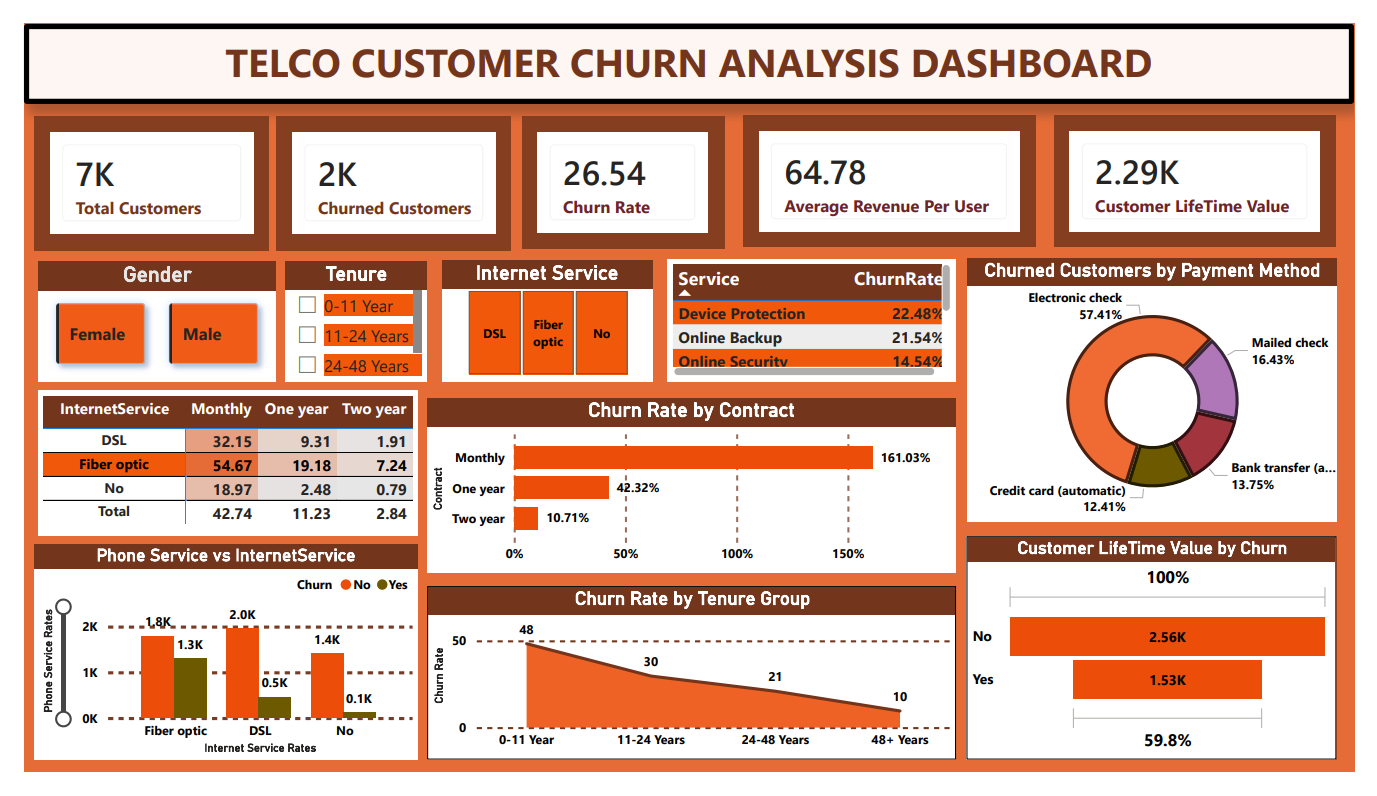

This screenshot's page, from the dashboard's own definition file:
{"tool":"powerbi","page":{"name":"Page 1","canvas":[1280,720],"ordinal":0},"visuals":[{"type":"textbox","box":[0,0,1280.3,76.8],"z":0},{"type":"cardVisual","fields":{"Data":["Telco-Customer-Churn.Churned Customers"]},"box":[242.9,89.2,226.4,129],"z":2000},{"type":"cardVisual","fields":{"Data":["Telco-Customer-Churn.Churn Rate"]},"box":[478.9,89.2,194.9,127.6],"z":3000},{"type":"cardVisual","fields":{"Data":["Telco-Customer-Churn.Average revenue Per User (ARPU)"]},"box":[691.6,87.8,281.3,127.6],"z":4000},{"type":"cardVisual","fields":{"Data":["Telco-Customer-Churn.Customer LifeTime Value"]},"box":[990.7,87.8,271.7,127.6],"z":5000},{"type":"lineChart","fields":{"Category":["Telco-Customer-Churn.Tenure Group"],"Y":["Telco-Customer-Churn.Churn Rate"]},"box":[388.3,540.7,509.1,167.4],"z":6000},{"type":"clusteredBarChart","title":"Churn Rate by Contract","fields":{"Category":["Telco-Customer-Churn.Contract"],"Y":["Telco-Customer-Churn.Churn Rate"]},"box":[388.3,359.5,509.1,168.8],"z":7000},{"type":"donutChart","title":"Churned Customers by Payment Method","fields":{"Category":["Telco-Customer-Churn.PaymentMethod"],"Y":["Telco-Customer-Churn.Churned Customers"]},"box":[908.4,226.4,355.4,252.5],"z":8000},{"type":"pivotTable","fields":{"Rows":["Telco-Customer-Churn.InternetService"],"Values":["Telco-Customer-Churn.Churn Rate"],"Columns":["Telco-Customer-Churn.Contract"]},"box":[13.7,352.7,365,140],"z":9000},{"type":"funnel","fields":{"Y":["Telco-Customer-Churn.Customer LifeTime Value"],"Category":["Telco-Customer-Churn.Churn"]},"box":[906.5,493.2,356.3,215.2],"z":10000},{"type":"slicer","title":"Internet Service","fields":{"Values":["Telco-Customer-Churn.InternetService"]},"box":[402.1,227.8,203.1,116.6],"z":13000},{"type":"advancedSlicerVisual","fields":{"Values":["Telco-Customer-Churn.Gender"]},"box":[13.7,229.2,229.2,115.3],"z":14000},{"type":"slicer","title":"Tenure","fields":{"Values":["Telco-Customer-Churn.Tenure Group"]},"box":[252.5,229.2,135.8,115.3],"z":16000},{"type":"clusteredColumnChart","title":"Phone Service vs InternetService ","fields":{"Category":["Telco-Customer-Churn.InternetService"],"Series":["Telco-Customer-Churn.Churn"],"Y":["CountNonNull(Telco-Customer-Churn.PhoneService)"]},"box":[9.6,500.9,369.1,207.2],"z":16001},{"type":"tableEx","title":"Services ","fields":{"Values":["Services Table.Service","Services Table.ChurnRate"]},"box":[618.9,226.4,278.6,118],"z":16002},{"type":"cardVisual","fields":{"Data":["Telco-Customer-Churn.Total Customers"]},"box":[9.6,89.2,226.4,129],"z":16003}]}

Visuals, with their boxes in screenshot pixels (x1, y1, x2, y2), scaled from the page's 1280x720 canvas onto the 1377x796 screenshot:
textbox: 0:0:1376:85
cardVisual - Telco-Customer-Churn.Churned Customers: 261:99:505:241
cardVisual - Telco-Customer-Churn.Churn Rate: 515:99:725:240
cardVisual - Telco-Customer-Churn.Average revenue Per User (ARPU): 744:97:1047:238
cardVisual - Telco-Customer-Churn.Customer LifeTime Value: 1066:97:1358:238
lineChart - Telco-Customer-Churn.Tenure Group x Telco-Customer-Churn.Churn Rate: 418:598:965:783
"Churn Rate by Contract" clusteredBarChart: 418:397:965:584
"Churned Customers by Payment Method" donutChart: 977:250:1360:529
pivotTable - Telco-Customer-Churn.InternetService x Telco-Customer-Churn.Churn Rate: 15:390:407:545
funnel - Telco-Customer-Churn.Customer LifeTime Value x Telco-Customer-Churn.Churn: 975:545:1358:783
"Internet Service" slicer: 433:252:651:381
advancedSlicerVisual - Telco-Customer-Churn.Gender: 15:253:261:381
"Tenure" slicer: 272:253:418:381
"Phone Service vs InternetService " clusteredColumnChart: 10:554:407:783
"Services " tableEx: 666:250:966:381
cardVisual - Telco-Customer-Churn.Total Customers: 10:99:254:241
